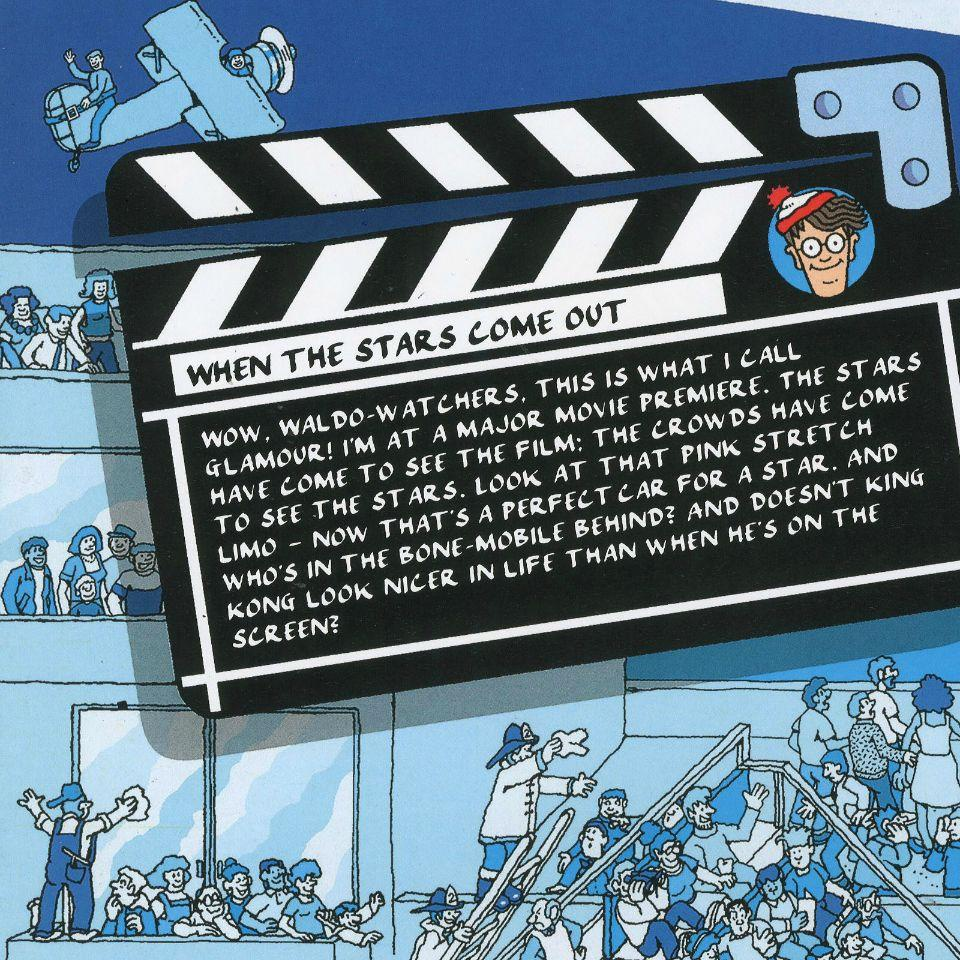waldo: (766, 185, 872, 301)
